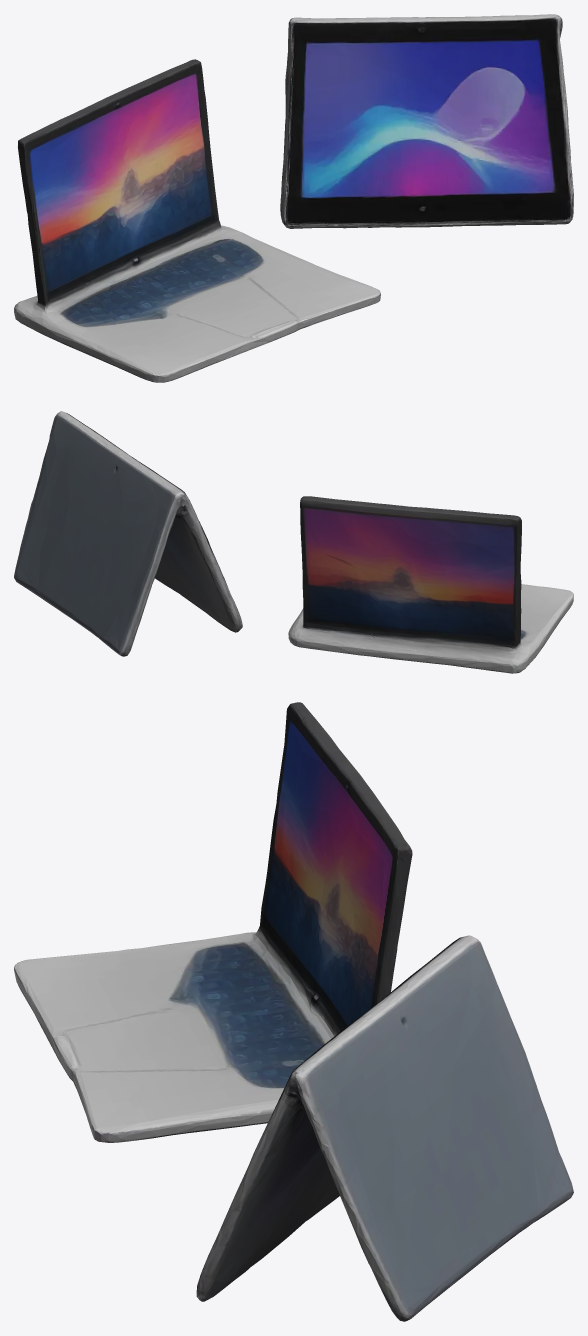
The picture shows the model from 3 angles, top to bottom: view 1: azimuth 30°, elevation 25°; view 2: azimuth 150°, elevation 25°; view 3: azimuth 270°, elevation 25°; orthographic projection. The views are drawn at different scales.
Visible parts, largest first — view 1: geometry_0; view 2: geometry_0; view 3: geometry_0.
Part boxes in pixels (x1,y1,x2,y2): geometry_0: (14,14,573,382); geometry_0: (14,411,573,673); geometry_0: (14,702,573,1321).
Bounding box in the file's own units: 1 × 0.3174 × 0.6282.
1 material, 1 textured.
